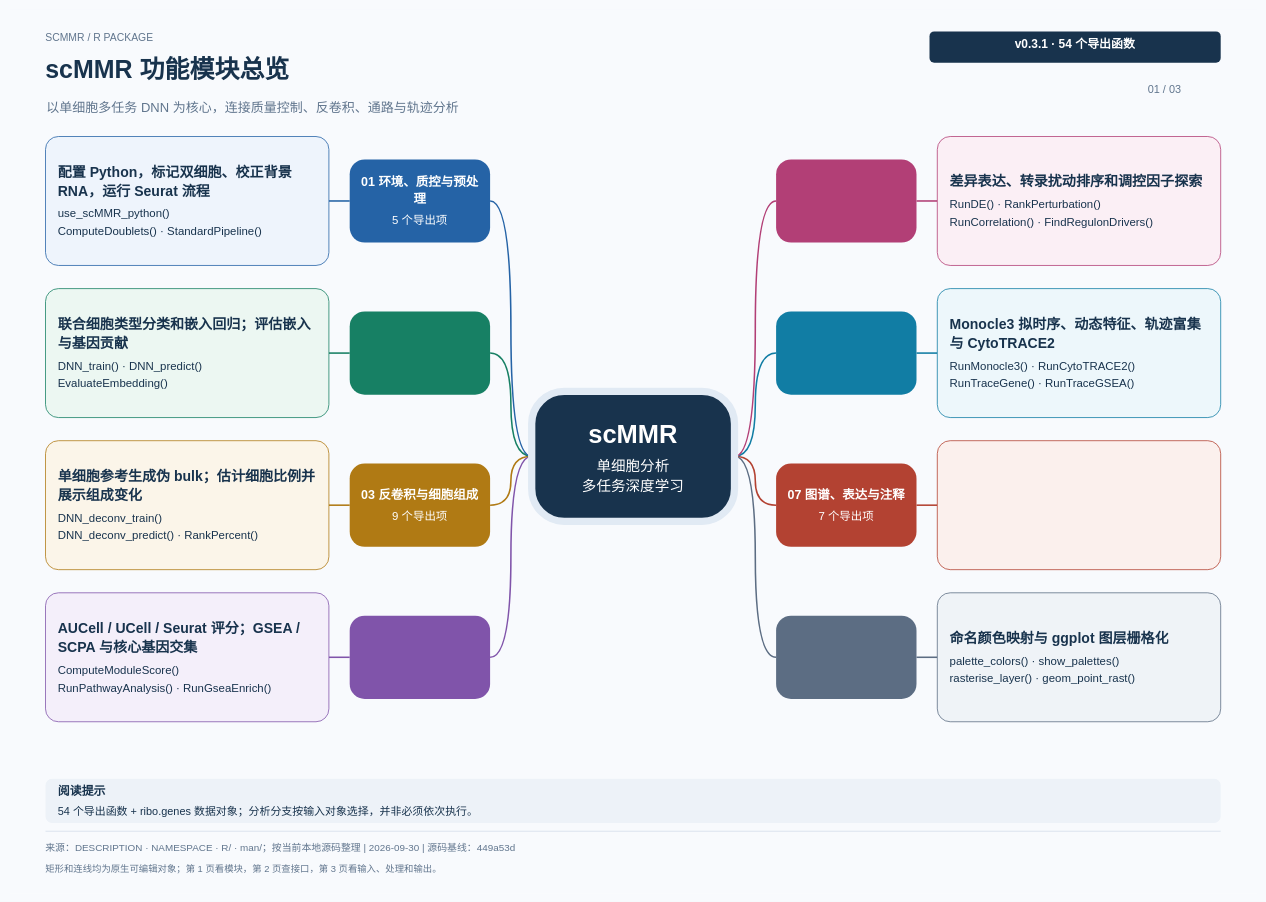
Some shapes in this 1266 by 902 pixel diagram are drawn without their labels. Here are the shapes that lost their labels. From the top down, the centre of each, then its label:
At [846,200]: "05 差异、扰动与相关 9 个导出项".
At [419,352]: "02 多任务 DNN 与归因 5 个导出项".
At [846,352]: "06 轨迹与分化潜能 6 个导出项".
At [1079,505]: "降维空间、表达分布、参考图谱投影及元数据注释 DimPlot2() · FeaturePlot2() PlotMAP() · PlotAnnotation()".
At [419,657]: "04 基因集评分与富集 9 个导出项".
At [846,657]: "08 配色与大规模绘图 4 个导出项".
